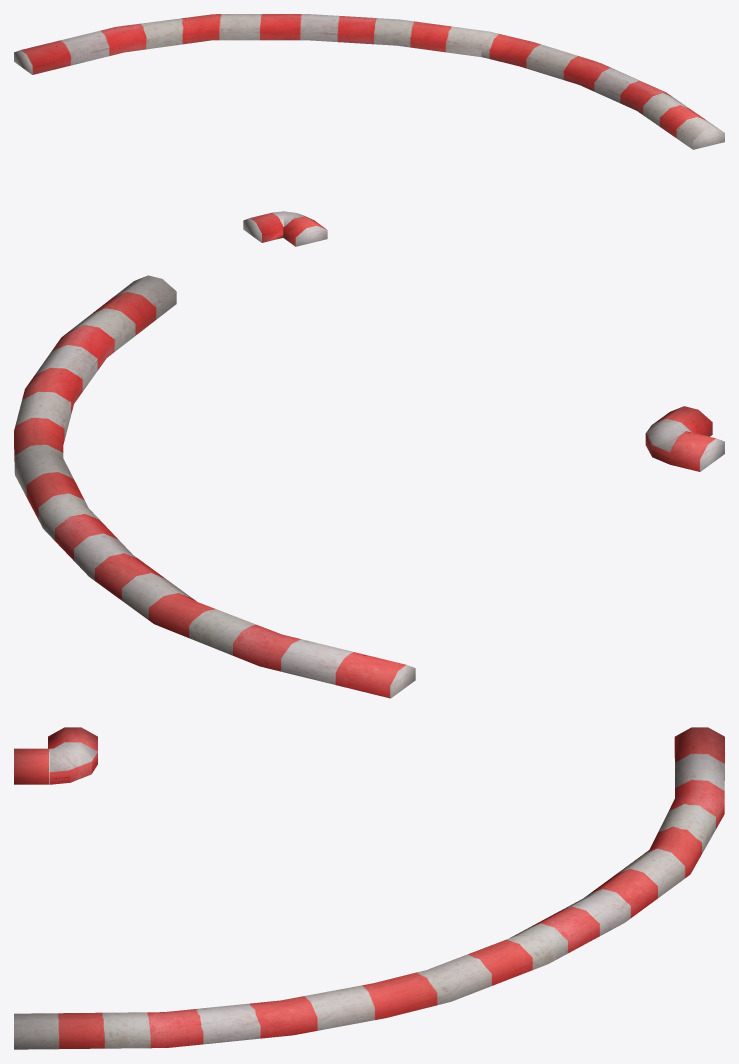
Rendered from crub_track_turn_left.fbx.
3 views of the same model, one above another, from view 1: azimuth 30°, elevation 25°; view 2: azimuth 150°, elevation 25°; view 3: azimuth 270°, elevation 25° (orthographic). The views are drawn at different scales.
Parts seen in each view (by area): view 1: curb_track_left; view 2: curb_track_left; view 3: curb_track_left.
Boxes of the visible parts, x1,y1,x2,y2 form: curb_track_left: [14, 14, 724, 246]; curb_track_left: [14, 275, 724, 698]; curb_track_left: [14, 727, 724, 1049].
Size of the model in its own units: 190 by 6.43 by 190.
